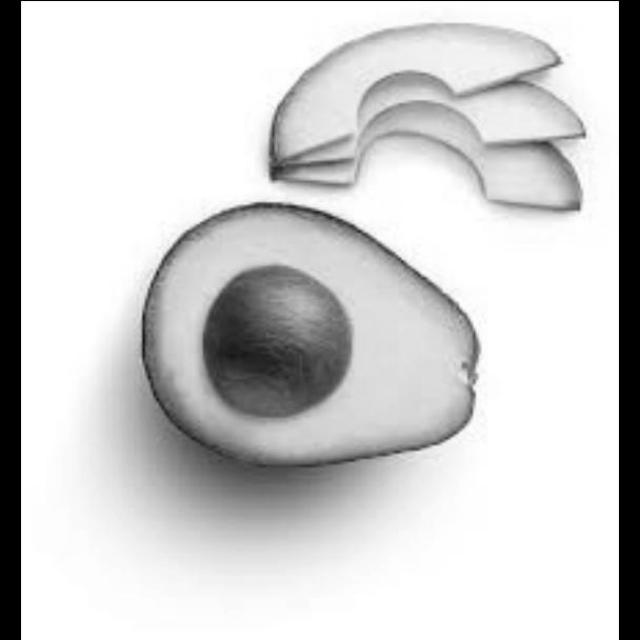avocado: (132, 192, 519, 509), (244, 16, 602, 238)
